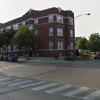Crosswalk: (6, 66, 100, 99)
